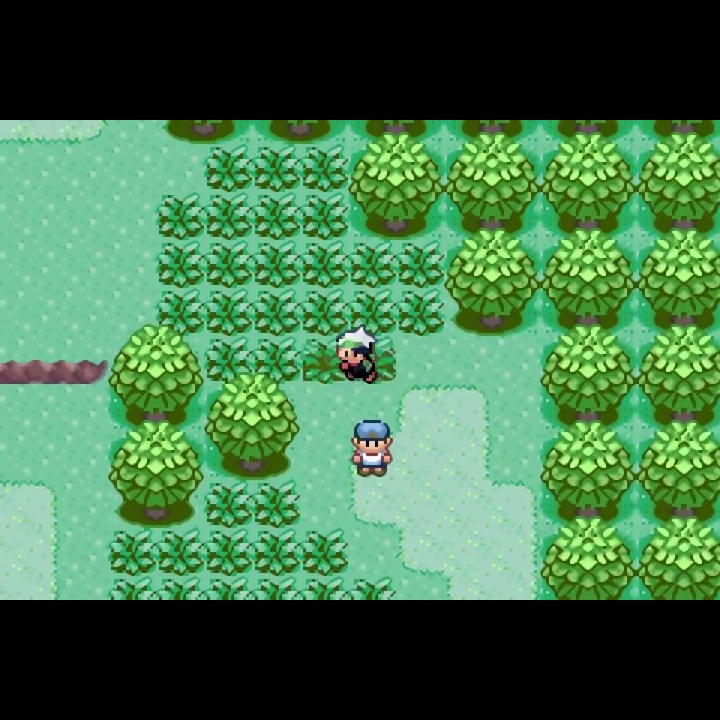grass: (204, 239, 255, 290), (348, 241, 398, 291), (252, 479, 302, 529), (252, 527, 302, 577), (253, 239, 302, 290), (347, 288, 396, 337), (204, 528, 253, 577), (252, 144, 302, 192), (396, 289, 446, 337), (203, 289, 254, 336), (253, 192, 302, 240), (204, 336, 253, 384), (108, 527, 157, 575), (204, 144, 252, 192), (302, 144, 350, 192), (157, 528, 205, 576), (157, 241, 204, 290), (253, 335, 300, 384), (203, 480, 252, 527), (302, 527, 349, 576), (302, 240, 348, 290), (398, 241, 444, 291), (302, 193, 350, 240), (204, 195, 253, 241), (254, 289, 301, 336), (301, 290, 349, 336), (158, 194, 204, 240), (158, 290, 204, 335), (299, 336, 335, 384), (347, 575, 397, 600), (203, 576, 254, 600), (108, 576, 157, 600), (156, 575, 204, 599), (252, 576, 300, 599), (300, 576, 347, 599)
npc: (348, 415, 396, 482), (336, 323, 380, 383)
wall: (348, 132, 444, 241), (107, 421, 205, 527), (203, 373, 300, 480), (444, 229, 541, 336), (539, 230, 636, 335), (445, 132, 540, 238), (539, 133, 637, 234), (108, 323, 204, 424), (540, 418, 636, 516), (541, 326, 637, 423), (637, 229, 720, 335), (635, 133, 720, 233), (540, 515, 636, 599), (637, 325, 720, 422), (636, 422, 720, 516), (636, 517, 720, 600), (252, 120, 352, 144), (163, 120, 252, 144), (350, 121, 444, 140), (538, 120, 636, 138), (445, 120, 537, 137), (637, 120, 720, 138)
